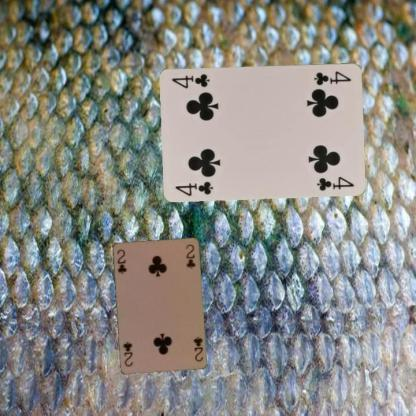2c: (114, 247, 128, 275), (191, 334, 204, 362)
4c: (173, 179, 215, 197), (312, 68, 352, 86)
